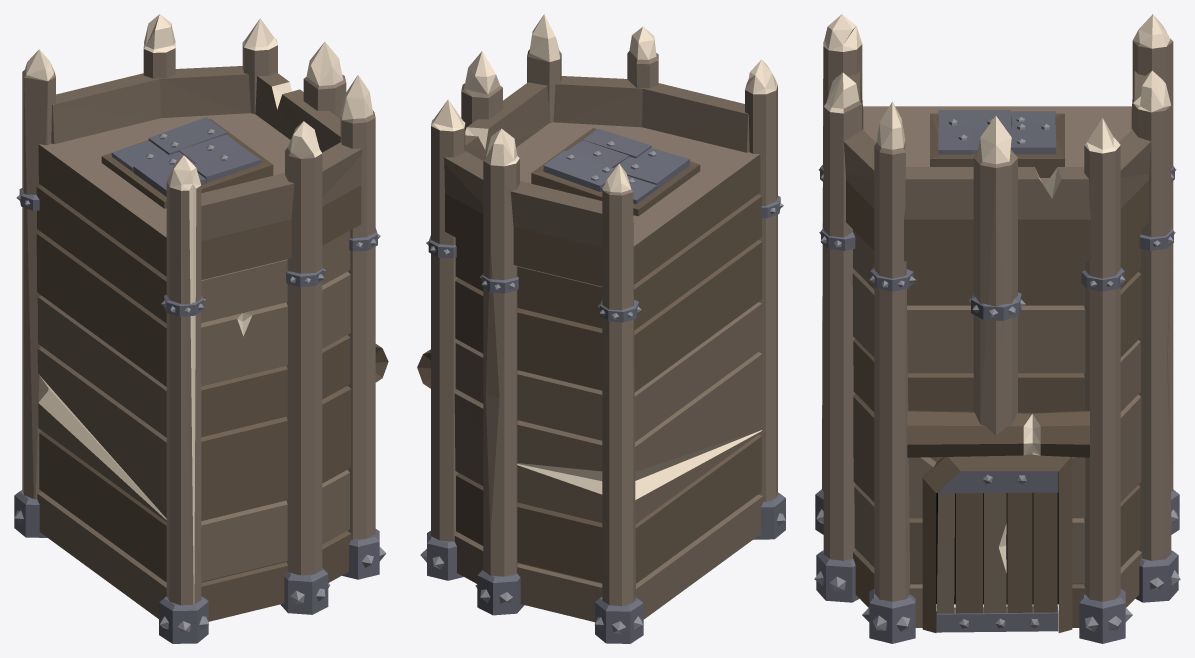
The model's file is _TOWER_01.fbx.
3 views of the same model, side by side, from view 1: azimuth 30°, elevation 25°; view 2: azimuth 150°, elevation 25°; view 3: azimuth 270°, elevation 25° (orthographic). The views are drawn at different scales.
Parts seen in each view (by area): view 1: TOWER_01; view 2: TOWER_01; view 3: TOWER_01.
Boxes of the visible parts, x1,y1,x2,y2 form: TOWER_01: [14, 14, 388, 643]; TOWER_01: [417, 14, 785, 643]; TOWER_01: [814, 14, 1180, 643].
Size of the model in its own units: 481 by 873 by 546.
